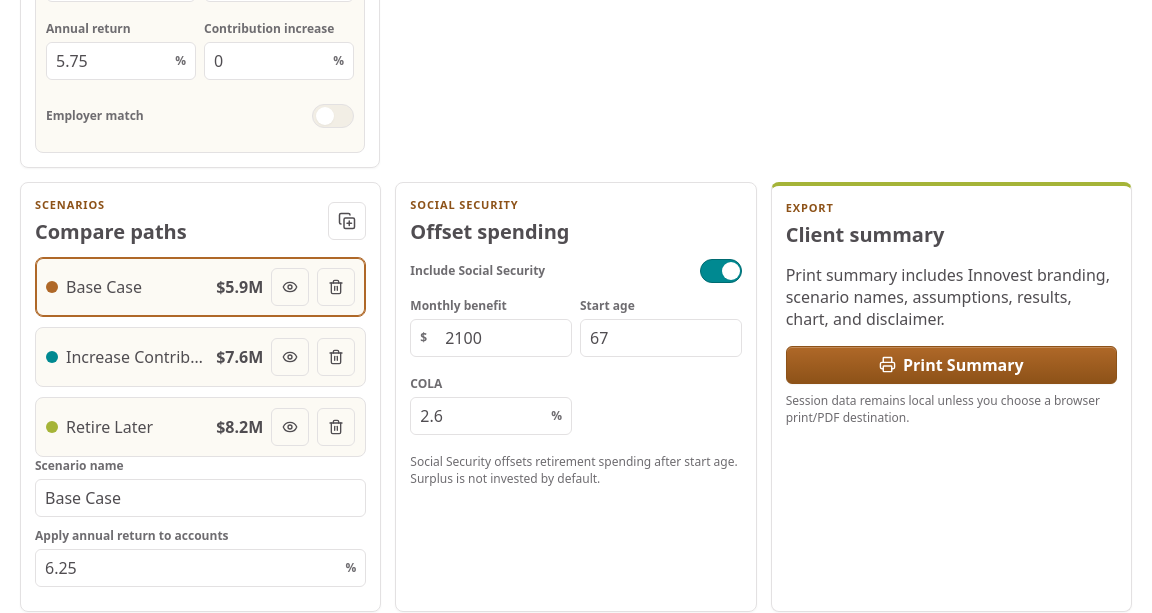
Test: Retirement dashboard app › applies annual return to account inputs and projection results
(page scrolled)
Replace the text in the number field labelled "Apply annual return to accounts %" with "9": (186, 568) [36,550,336,586]
(page scrolled)
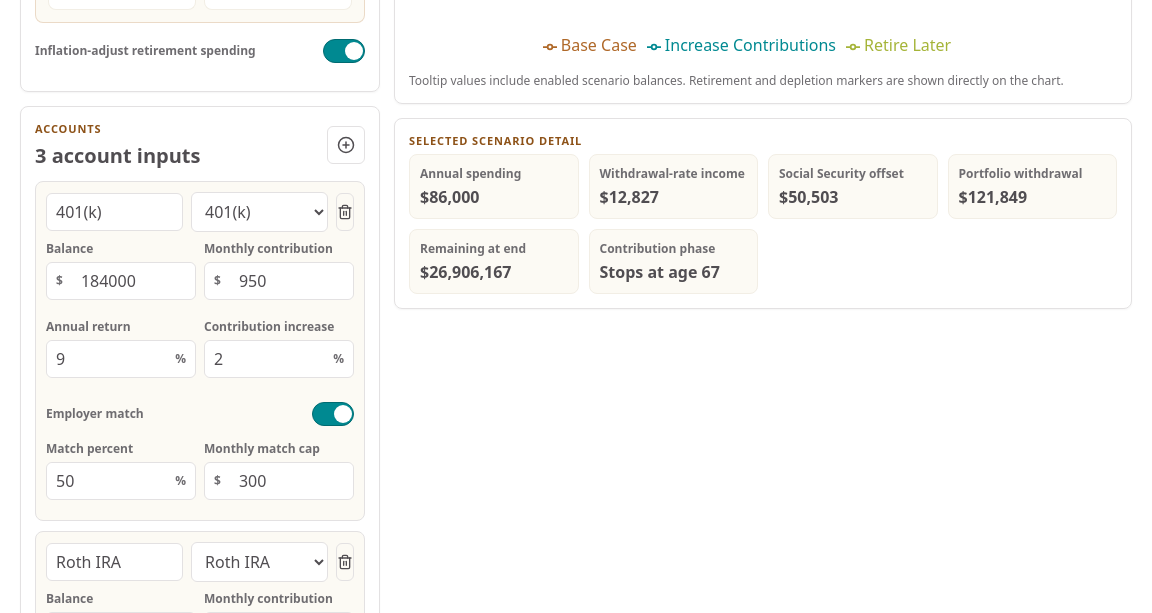
Expected: the number field labelled "Annual return %" holds "9", [47,341,166,377]
